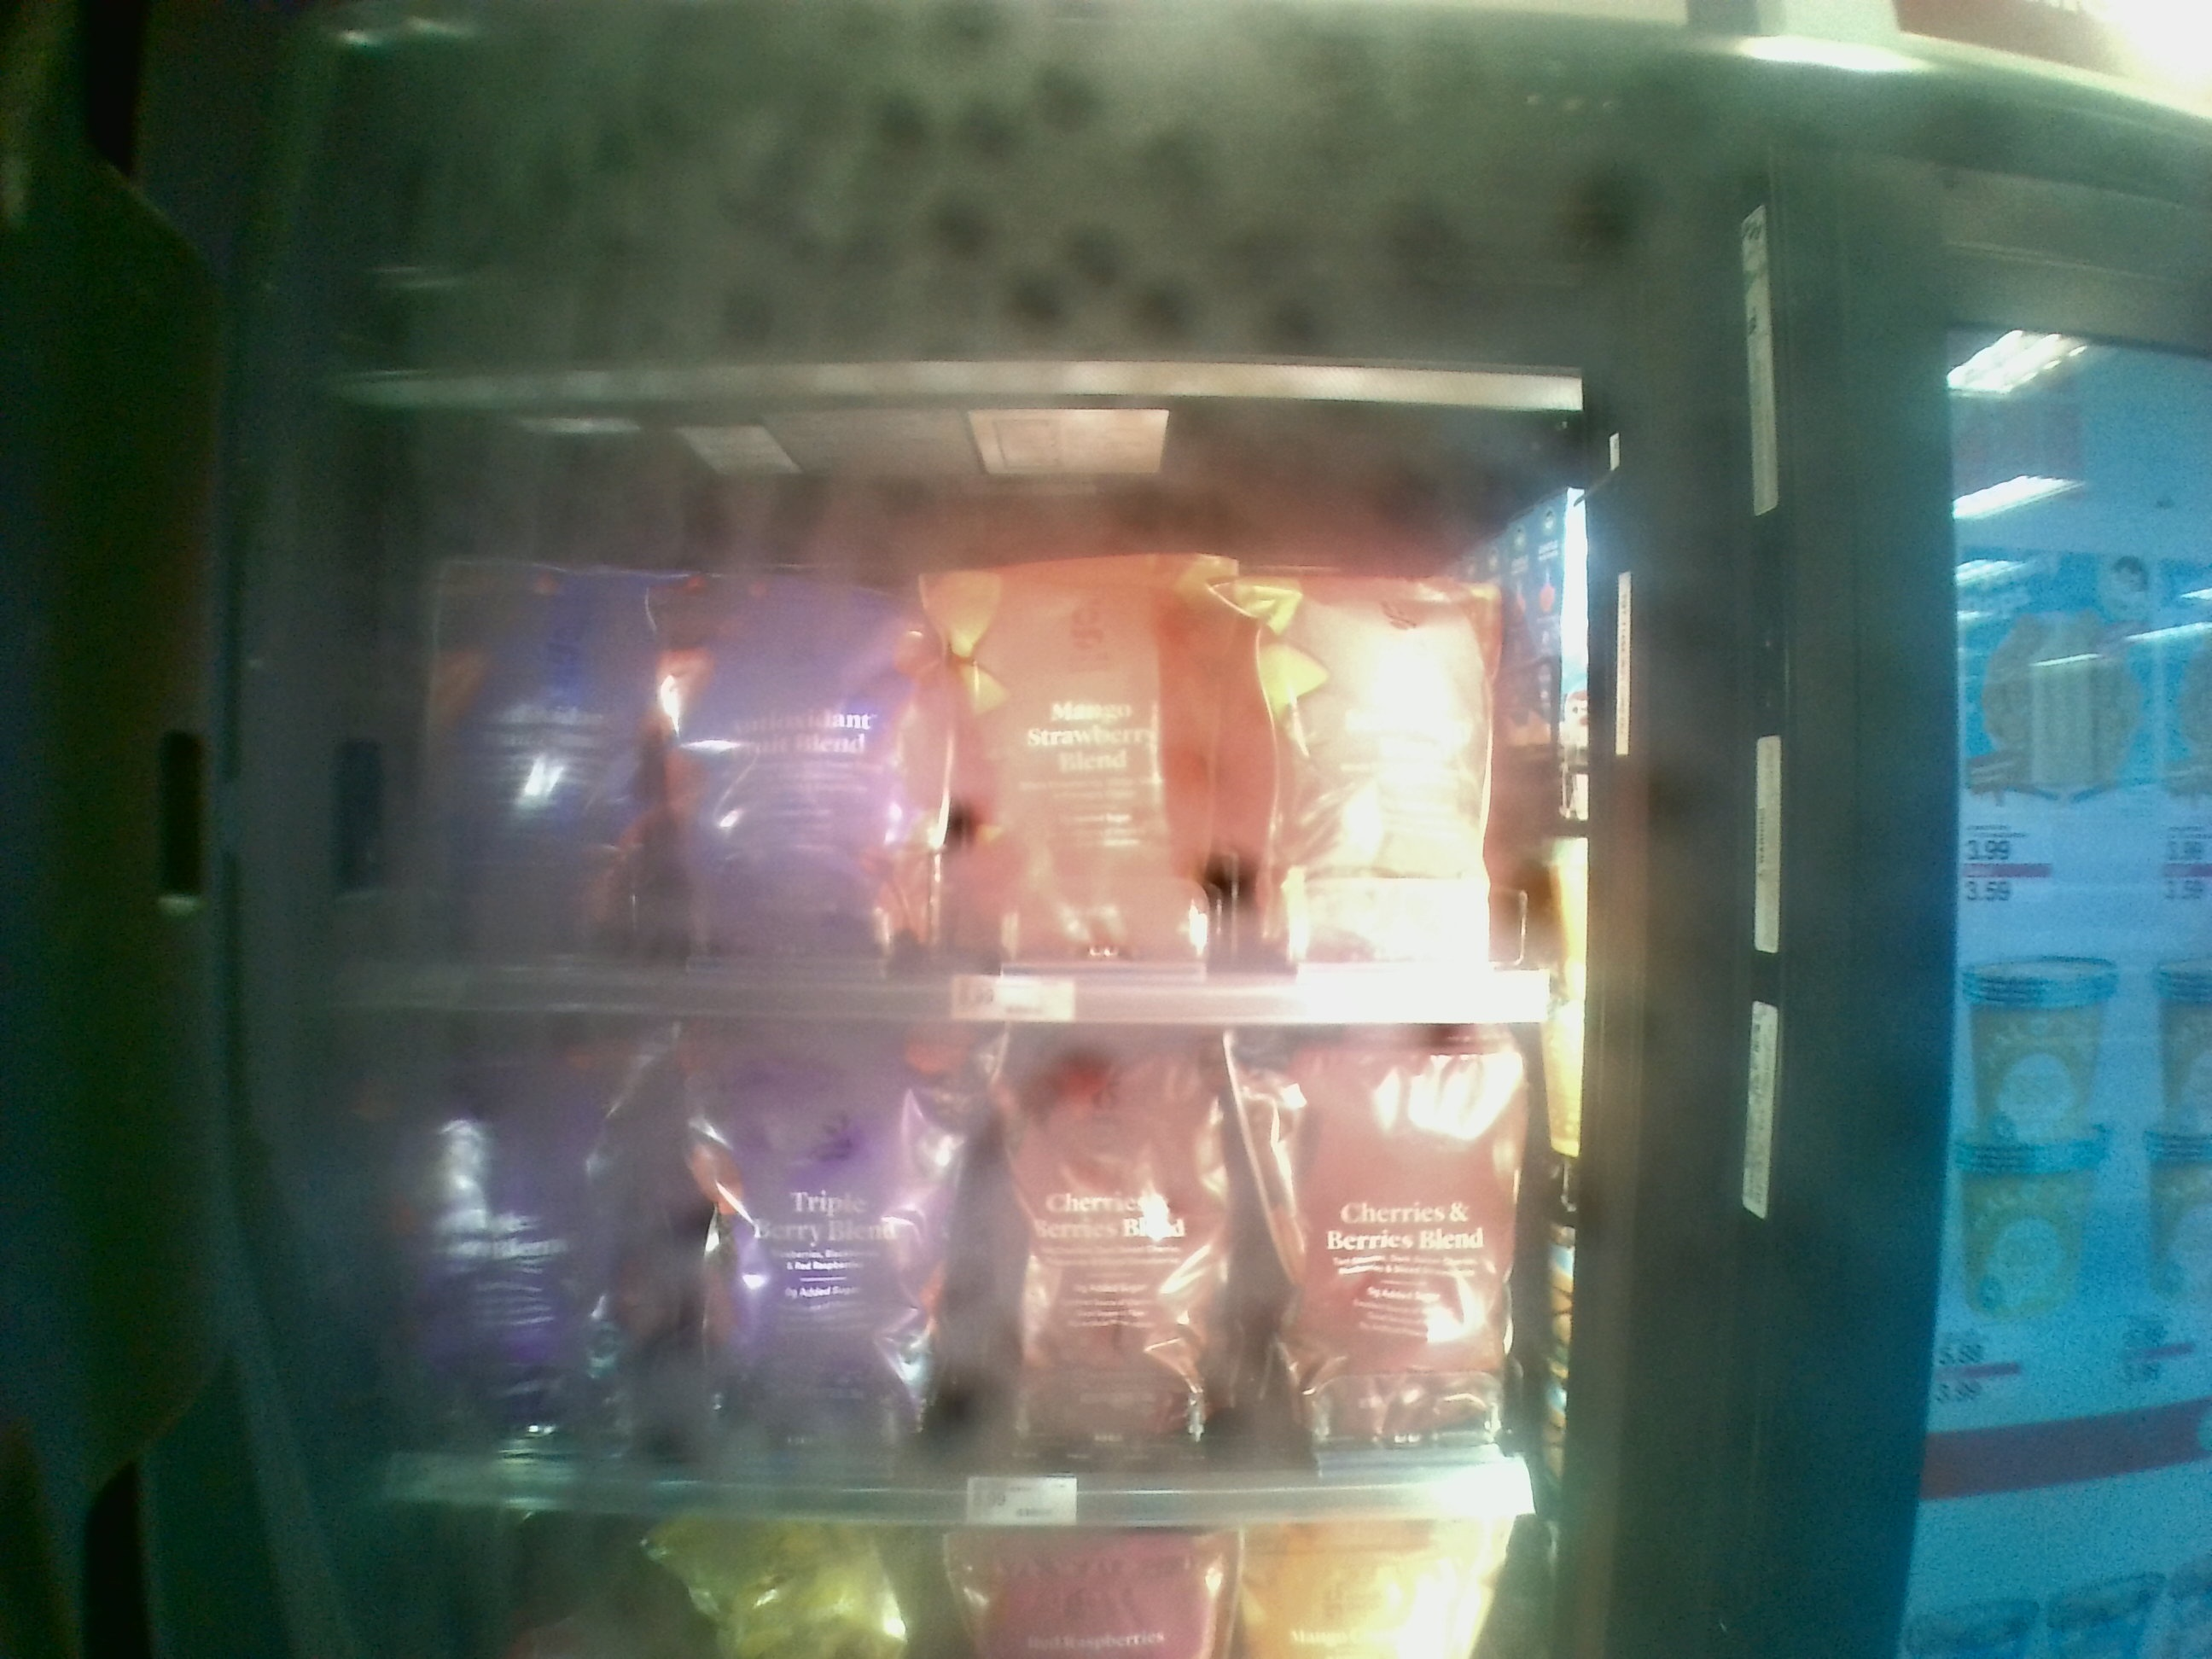shelf: (326, 415, 1568, 1019), (352, 1016, 1547, 1525)
